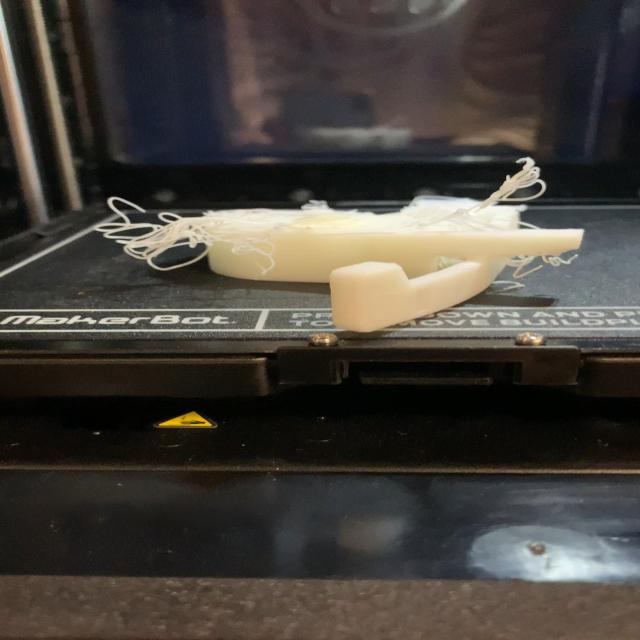spaghetti: (428, 153, 596, 303), (86, 184, 298, 289)
